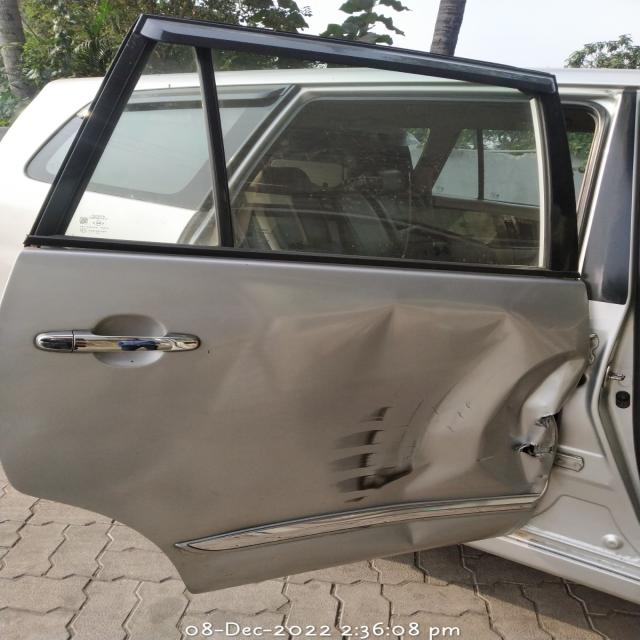damage: (267, 302, 587, 505)
